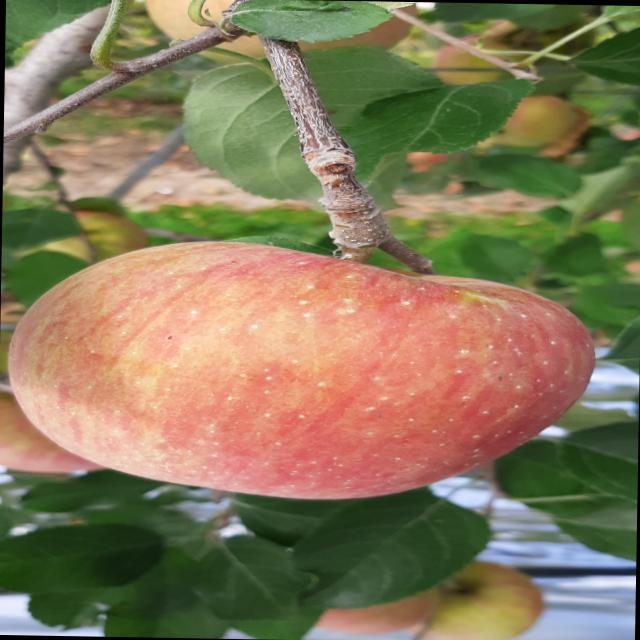fresh: (2, 232, 607, 513)
